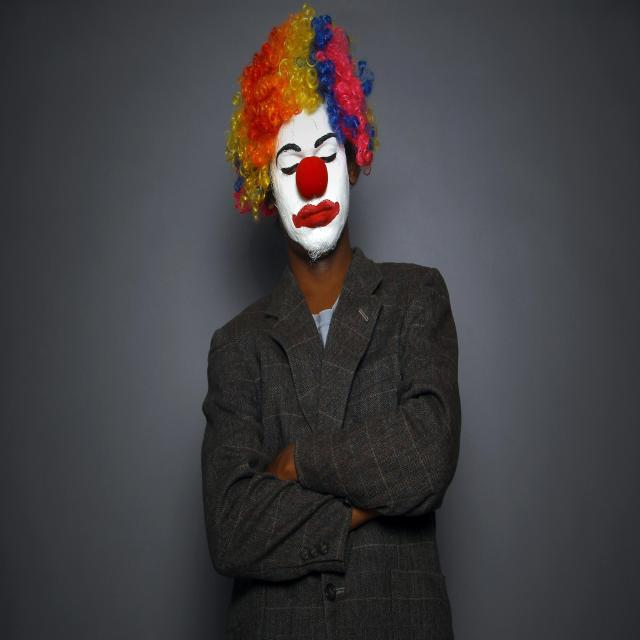stand: (197, 17, 482, 640)
